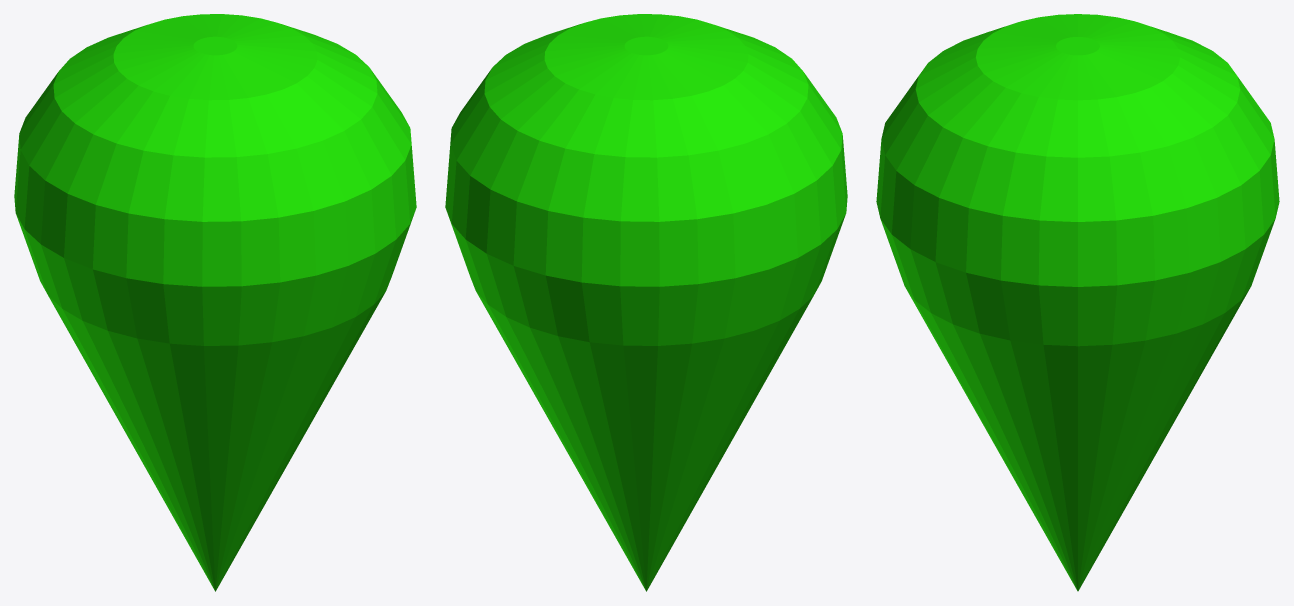
The model's file is Scrap06.fbx.
3 renders of one model, left to right at view 1: azimuth 30°, elevation 25°; view 2: azimuth 150°, elevation 25°; view 3: azimuth 270°, elevation 25°, orthographic.
Parts seen in each view (by area): view 1: Cone; view 2: Cone; view 3: Cone.
Boxes of the visible parts, bbox=[...] form: Cone: bbox=[14, 14, 416, 591]; Cone: bbox=[445, 14, 847, 591]; Cone: bbox=[876, 14, 1279, 591].
Size of the model in its own units: 134 by 200 by 134.
